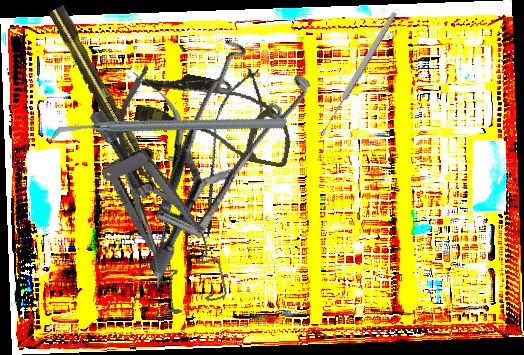Cannula: (130, 65, 300, 169)
Chopper: (46, 36, 289, 224)
Handpiece: (46, 4, 168, 200)
Micro Scissor: (112, 64, 192, 290), (183, 61, 275, 244)
Speculum: (73, 16, 358, 280), (87, 91, 230, 324)
Surgical Spoon: (317, 10, 399, 138)
